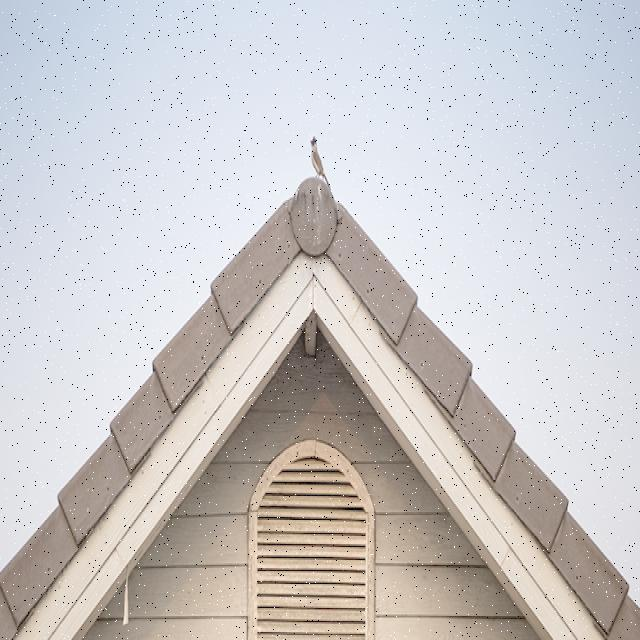bird: (310, 135, 330, 188)
